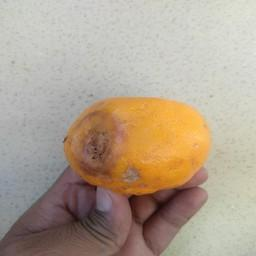Bad_orange: (53, 83, 215, 198)
